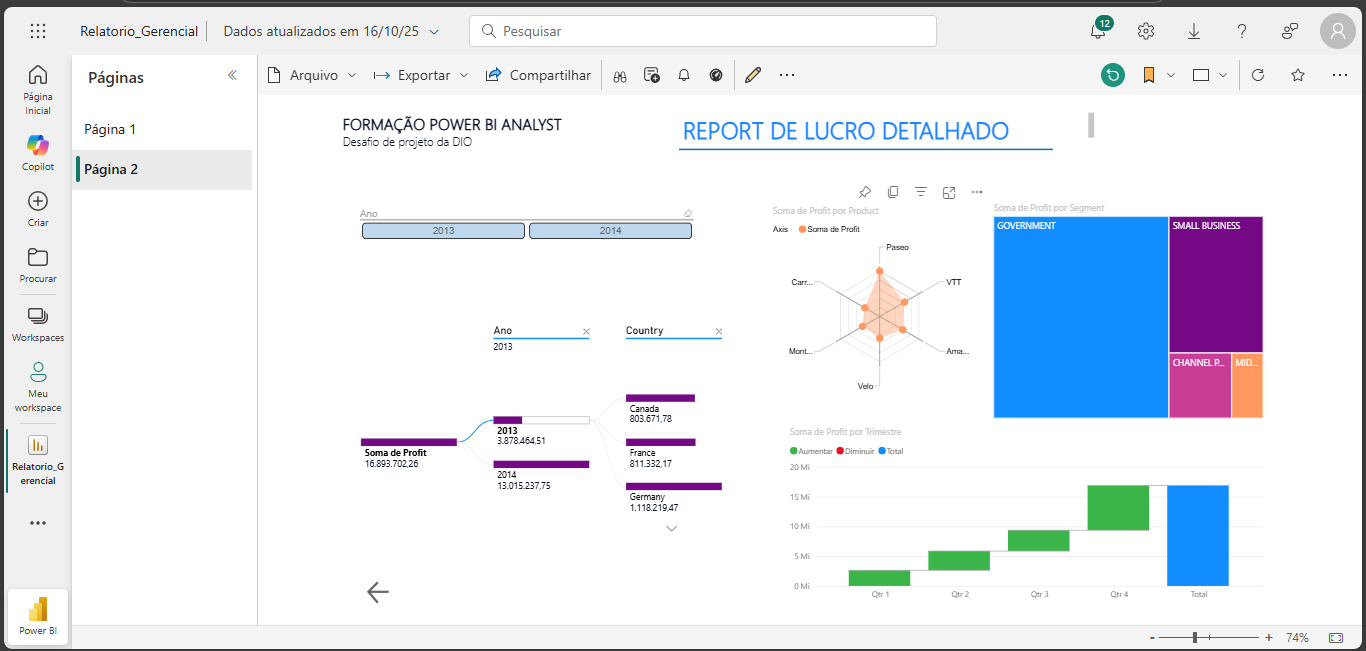

This screenshot's page, from the dashboard's own definition file:
{"tool":"powerbi","page":{"name":"Página 2","canvas":[1280,720],"ordinal":1},"visuals":[{"type":"ChicletSlicer1448559807354","fields":{"Category":["financials.Date.Variation.Hierarquia de datas.Ano"]},"box":[23.4,147.8,463.9,71.7],"z":0},{"type":"decompositionTreeVisual","fields":{"Analyze":["Sum(financials.Profit)"],"ExplainBy":["financials.Date.Variation.Hierarquia de datas.Ano","financials.Country"]},"box":[0,294.1,583.9,307.3],"z":1000},{"type":"RadarChart1446119667547","fields":{"Y":["Sum(financials.Profit)"],"Category":["financials.Product"]},"box":[583.9,147.8,300,263.4],"z":1001},{"type":"treemap","fields":{"Group":["financials.Segment"],"Values":["Sum(financials.Profit)"]},"box":[883.9,143.4,376.1,300],"z":1002},{"type":"waterfallChart","fields":{"Y":["Sum(financials.Profit)"],"Category":["financials.Date.Variation.Hierarquia de datas.Trimestre"]},"box":[607.3,447.8,652.7,247.3],"z":1003},{"type":"actionButton","box":[33.7,655.6,60,39.5],"z":1004},{"type":"textbox","box":[0,19,349.8,79],"z":1008},{"type":"textbox","box":[462.4,19,569.3,48.3],"z":1009},{"type":"shape","box":[462.4,0,507.8,147.8],"z":1010}]}

Visuals, with their boxes on the page's 1280x720 design canvas (x1, y1, x2, y2). These are canvas units, not pixel positions in the 1366x651 screenshot, which may show the page scaled, cropped or inside an application window:
ChicletSlicer1448559807354 - financials.Date.Variation.Hierarquia de datas.Ano: bbox(23, 148, 487, 220)
decompositionTreeVisual - Sum(financials.Profit) x financials.Date.Variation.Hierarquia de datas.Ano: bbox(0, 294, 584, 601)
RadarChart1446119667547 - Sum(financials.Profit) x financials.Product: bbox(584, 148, 884, 411)
treemap - financials.Segment x Sum(financials.Profit): bbox(884, 143, 1260, 443)
waterfallChart - Sum(financials.Profit) x financials.Date.Variation.Hierarquia de datas.Trimestre: bbox(607, 448, 1260, 695)
actionButton: bbox(34, 656, 94, 695)
textbox: bbox(0, 19, 350, 98)
textbox: bbox(462, 19, 1032, 67)
shape: bbox(462, 0, 970, 148)
